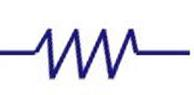resistor: (30, 22, 153, 86)
